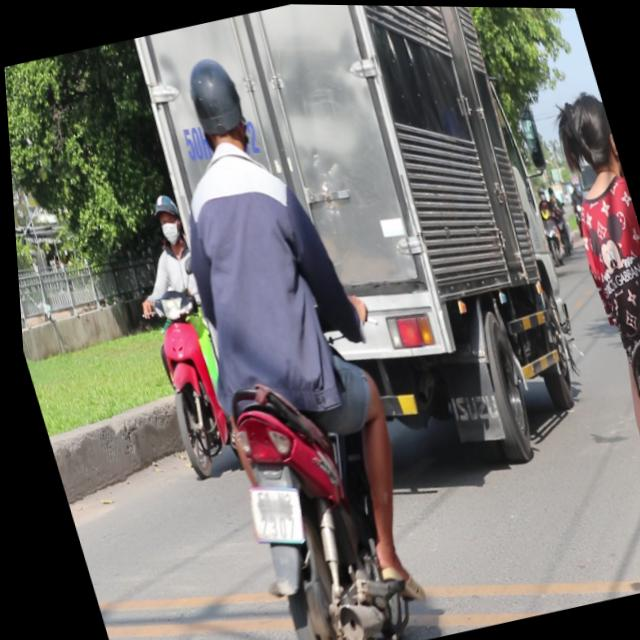helmet: (173, 48, 256, 163), (143, 190, 184, 249)
licenseplate: (104, 34, 454, 640), (515, 75, 640, 585), (102, 187, 247, 483)
motorcyclist: (556, 86, 623, 188)
nohelmet: (234, 478, 302, 550)
